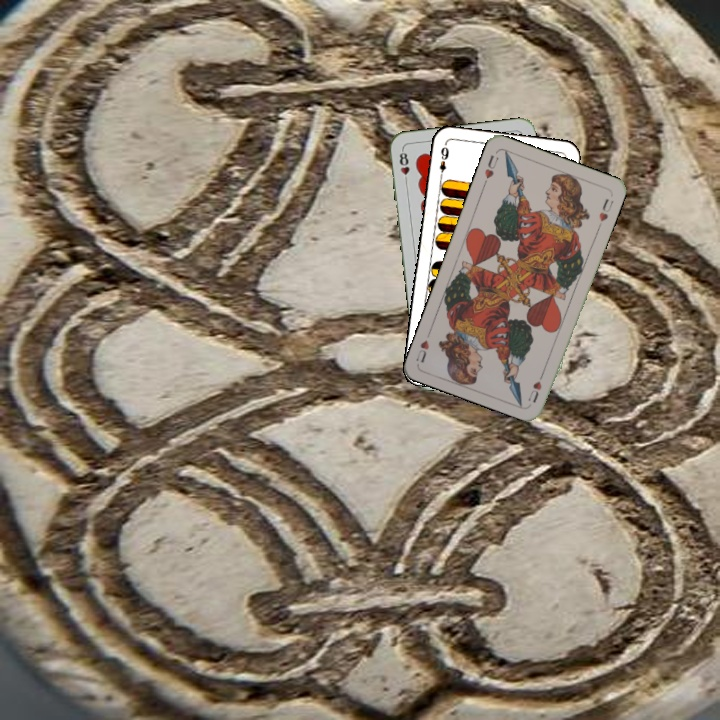E9: (436, 143, 451, 181)
H8: (395, 146, 412, 187)
HU: (524, 367, 547, 405), (479, 151, 501, 188)
